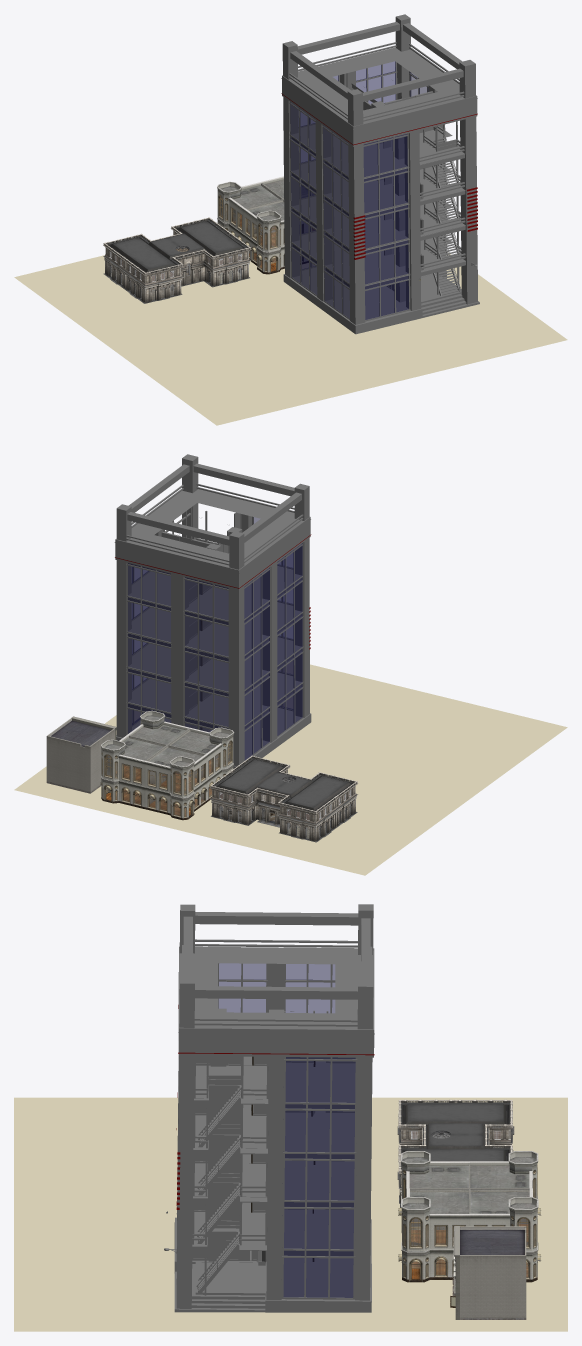
3 views of the same model, one above another, from view 1: azimuth 30°, elevation 25°; view 2: azimuth 150°, elevation 25°; view 3: azimuth 270°, elevation 25° (orthographic). The views are drawn at different scales.
Visible parts, largest first — view 1: CONDO-MESH-87 PRIMS-5 APARTMENTS (×14), Terrain 6,10, Terrain 6,11, Terrain 7,10, MESHWORX~RC~Corner Store-D With Stairs v1c (ubODE) (×5), Compulsion Manor House (×3), Terrain 7,11; view 2: CONDO-MESH-87 PRIMS-5 APARTMENTS (×11), Terrain 6,10, Terrain 6,11, MESHWORX~RC~Corner Store-D With Stairs v1c (ubODE) (×10), Terrain 7,10, Rodeo Collection Store C (×3), Terrain 7,11, Compulsion Manor House (×3); view 3: CONDO-MESH-87 PRIMS-5 APARTMENTS (×15), Terrain 7,10, Terrain 6,10, Terrain 7,11, MESHWORX~RC~Corner Store-D With Stairs v1c (ubODE) (×10), Terrain 6,11, Rodeo Collection Store C (×3), Compulsion Manor House (×3).
Part boxes in pixels (x1,y1,x2,y2): CONDO-MESH-87 PRIMS-5 APARTMENTS (×14): (281,14,479,334); Terrain 6,10: (115,308,391,425); Terrain 6,11: (14,255,290,351); Terrain 7,10: (291,267,567,382); MESHWORX~RC~Corner Store-D With Stairs v1c (ubODE) (×5): (217,181,281,274); Compulsion Manor House (×3): (108,221,244,272); Terrain 7,11: (249,252,461,308); CONDO-MESH-87 PRIMS-5 APARTMENTS (×11): (114,454,311,768); Terrain 6,10: (291,684,567,801); Terrain 6,11: (190,759,466,875); MESHWORX~RC~Corner Store-D With Stairs v1c (ubODE) (×10): (100,725,234,820); Terrain 7,10: (115,661,391,758); Rodeo Collection Store C (×3): (47,720,114,792); Terrain 7,11: (14,716,290,832); Compulsion Manor House (×3): (216,759,352,810); CONDO-MESH-87 PRIMS-5 APARTMENTS (×15): (174,904,374,1312); Terrain 7,10: (14,1214,290,1331); Terrain 6,10: (14,1097,178,1214); Terrain 7,11: (291,1214,567,1331); MESHWORX~RC~Corner Store-D With Stairs v1c (ubODE) (×10): (401,1151,538,1282); Terrain 6,11: (371,1097,567,1214); Rodeo Collection Store C (×3): (453,1226,526,1319); Compulsion Manor House (×3): (402,1104,509,1161).
Size of what is drawn, in the model's own units: 128 by 84.3 by 128.
128 materials, 127 textured.
